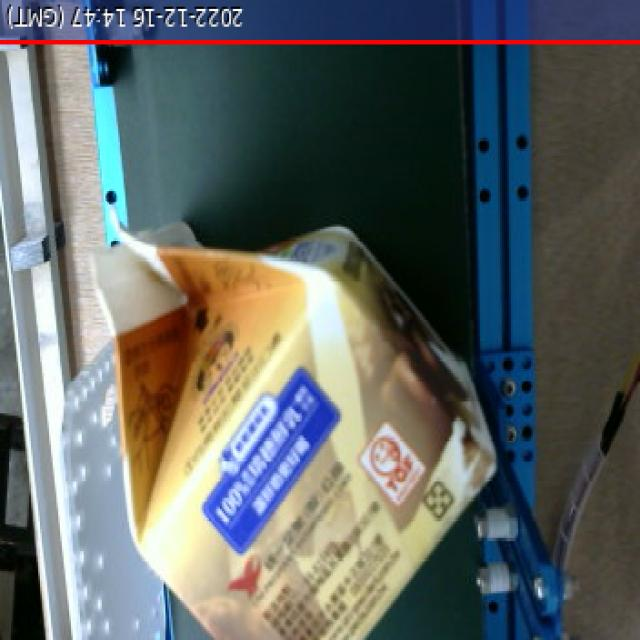non_white_jug: (65, 190, 517, 640)
